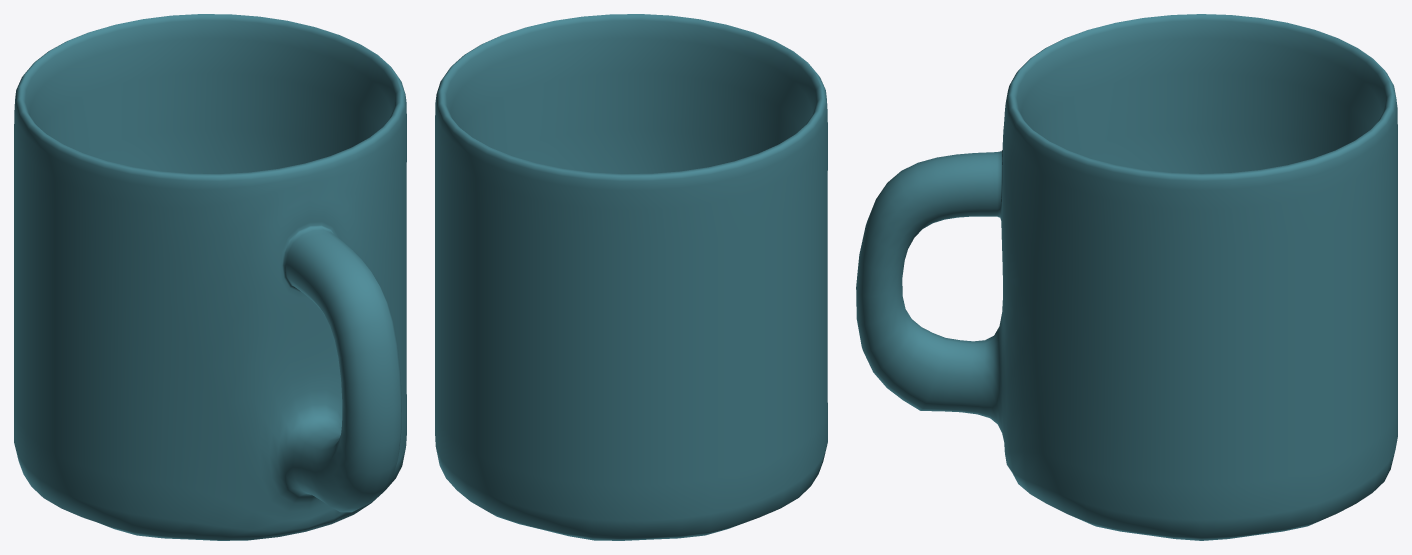
Rendered from mug.obj.
3 renders of one model, left to right at view 1: azimuth 30°, elevation 25°; view 2: azimuth 150°, elevation 25°; view 3: azimuth 270°, elevation 25°, orthographic.
Visible parts, largest first — view 1: pCylinder1; view 2: pCylinder1; view 3: pCylinder1.
Part boxes in pixels (x1,y1,x2,y2): pCylinder1: (14,14,406,540); pCylinder1: (435,14,827,540); pCylinder1: (856,14,1397,540).
Size of the model in its own units: 3.76 by 3.98 by 5.19.
